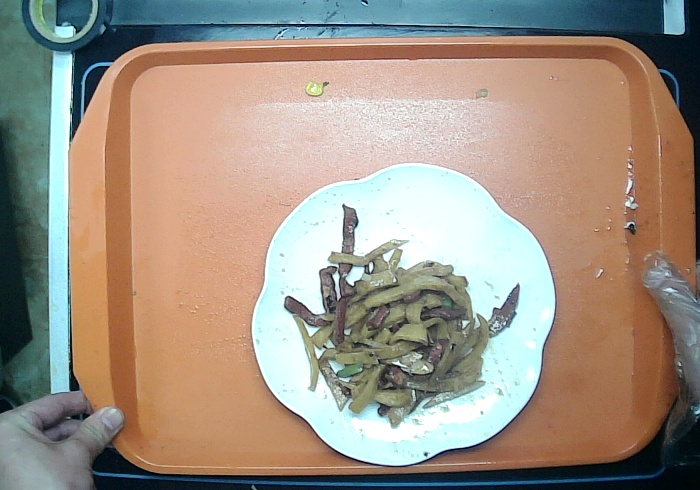HZYJPL-Bai_Se_Hua_Duo_Wan: (241, 154, 560, 475)
